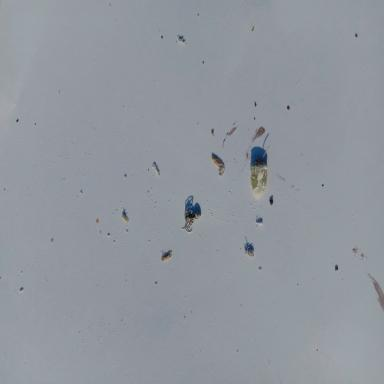pbw: (210, 154, 226, 169), (160, 250, 174, 262)
